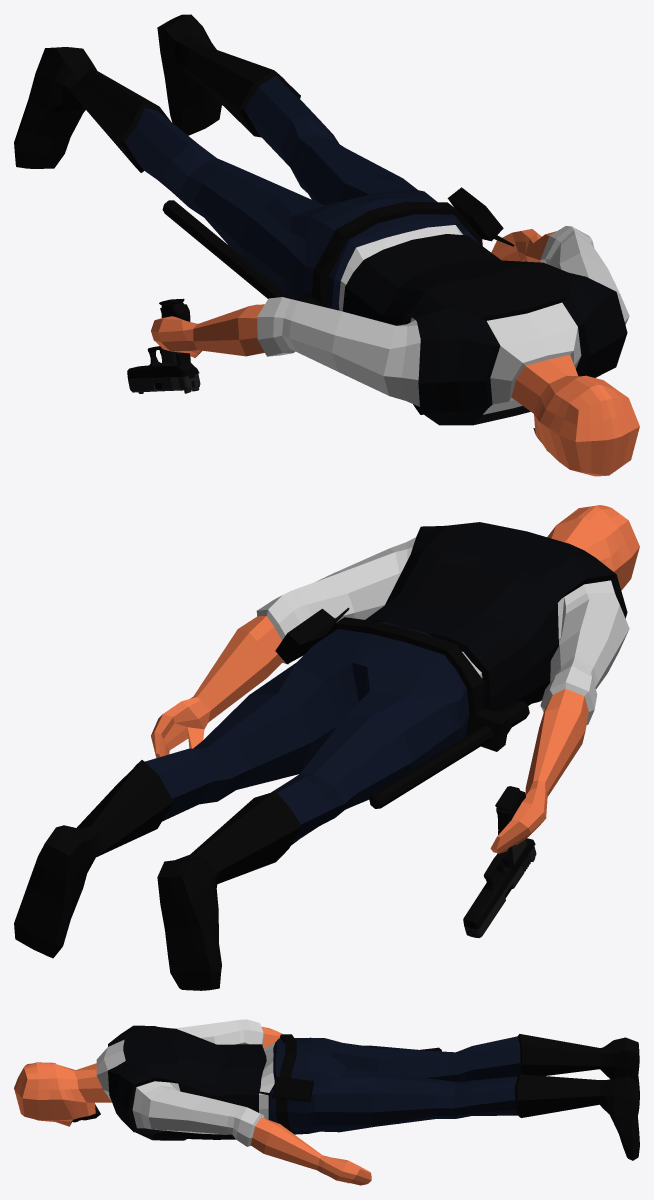
The model's file is Low_poly_security_guard.obj.
The picture shows the model from 3 angles, top to bottom: view 1: azimuth 30°, elevation 25°; view 2: azimuth 150°, elevation 25°; view 3: azimuth 270°, elevation 25°; orthographic projection. The views are drawn at different scales.
Parts seen in each view (by area): view 1: obj6, obj4, obj2, obj3, obj5, obj8, obj7; view 2: obj6, obj2, obj4, obj5, obj3, obj8, obj7; view 3: obj6, obj2, obj4, obj3, obj5.
Part boxes in pixels (left/top/right/bottom): obj6: left=125, top=76, right=479, bottom=310; obj4: left=342, top=234, right=627, bottom=425; obj2: left=14, top=14, right=514, bottom=307; obj3: left=257, top=225, right=629, bottom=414; obj5: left=151, top=229, right=639, bottom=476; obj8: left=127, top=298, right=199, bottom=390; obj7: left=128, top=349, right=200, bottom=393; obj6: left=145, top=621, right=469, bottom=845; obj2: left=14, top=607, right=529, bottom=990; obj4: left=365, top=522, right=627, bottom=711; obj5: left=151, top=505, right=639, bottom=853; obj3: left=256, top=537, right=629, bottom=724; obj8: left=463, top=786, right=535, bottom=936; obj7: left=464, top=839, right=536, bottom=937; obj6: left=268, top=1036, right=520, bottom=1134; obj2: left=242, top=1034, right=639, bottom=1160; obj4: left=108, top=1025, right=266, bottom=1140; obj3: left=96, top=1019, right=274, bottom=1146; obj5: left=14, top=1026, right=371, bottom=1185.
Size of the model in its own units: 0.8463 by 0.4365 by 1.91.
